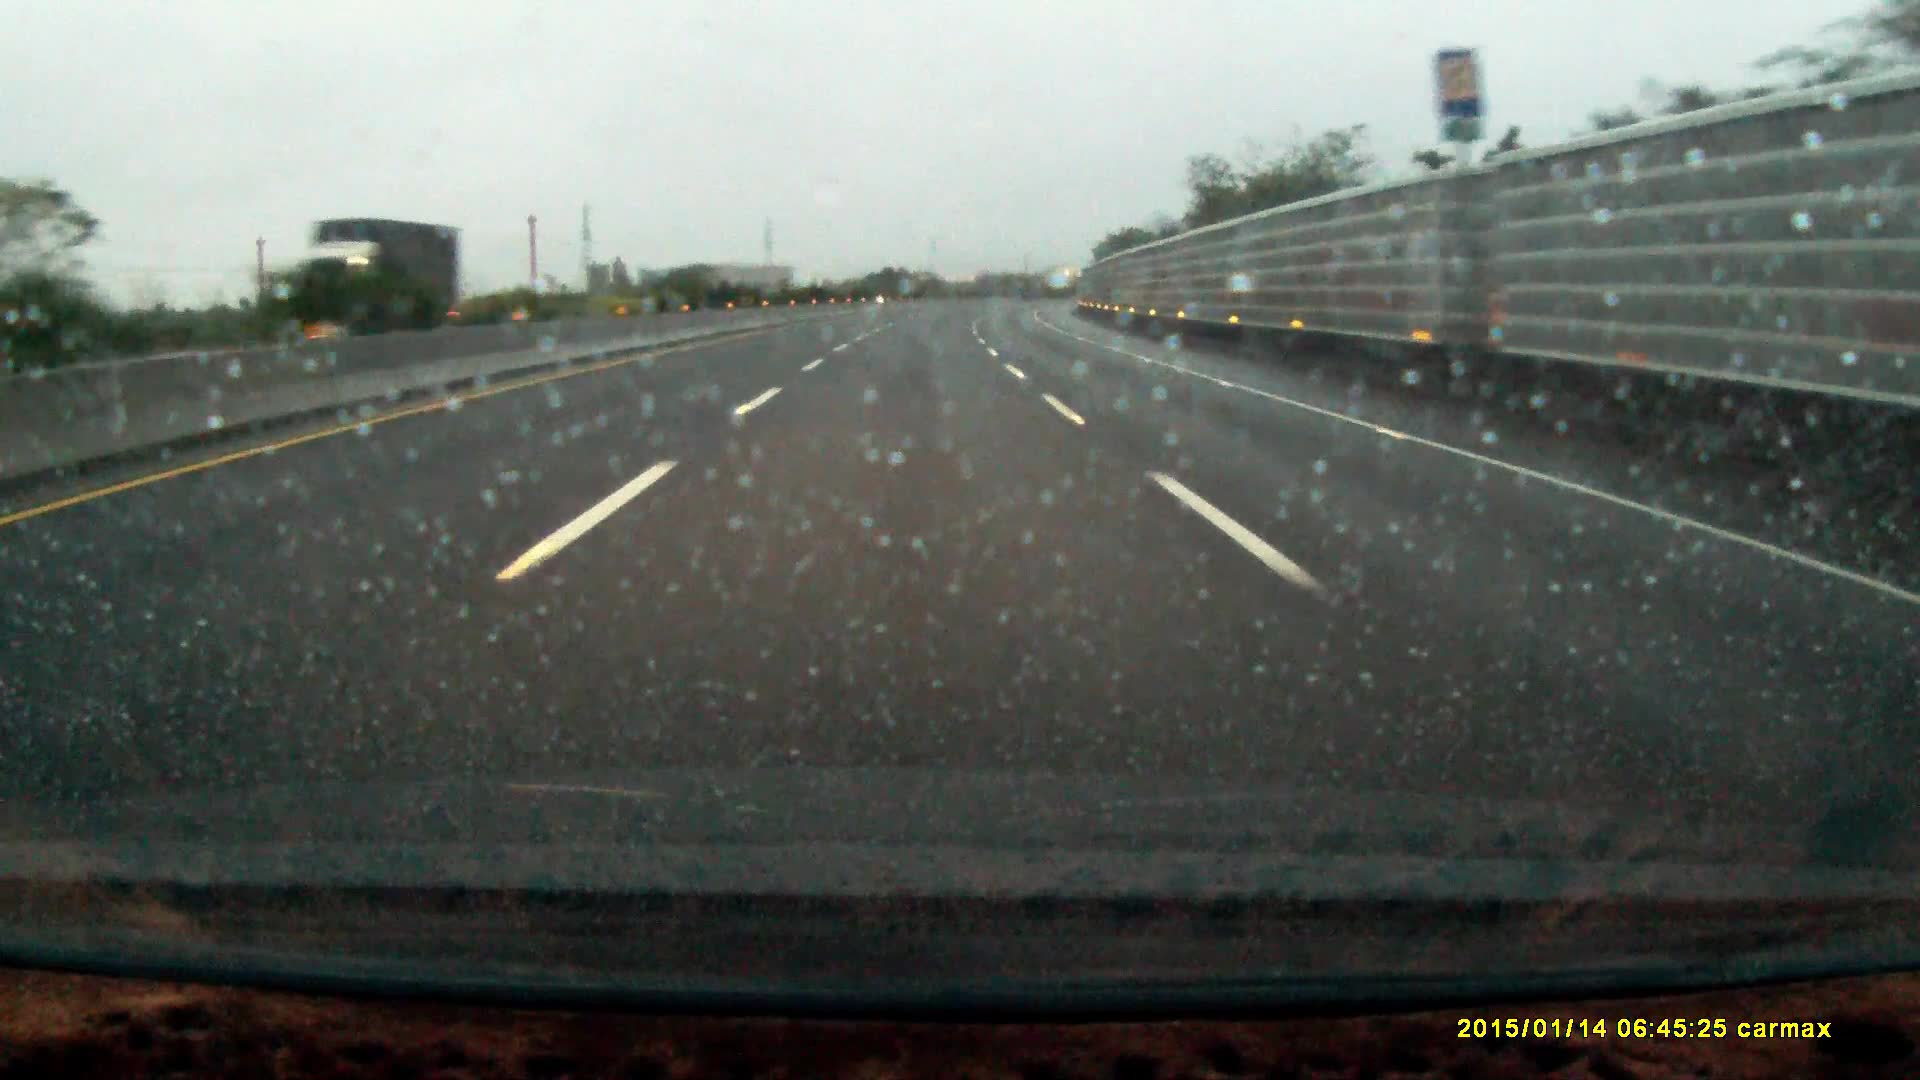vehicle: (290, 218, 465, 336)
